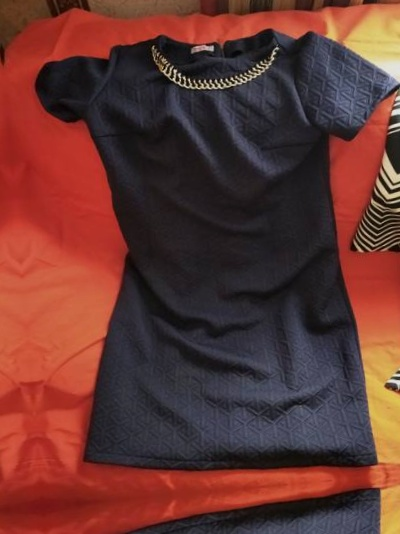Dress: (26, 15, 400, 495), (68, 484, 400, 534), (0, 50, 17, 530), (0, 520, 59, 534)
